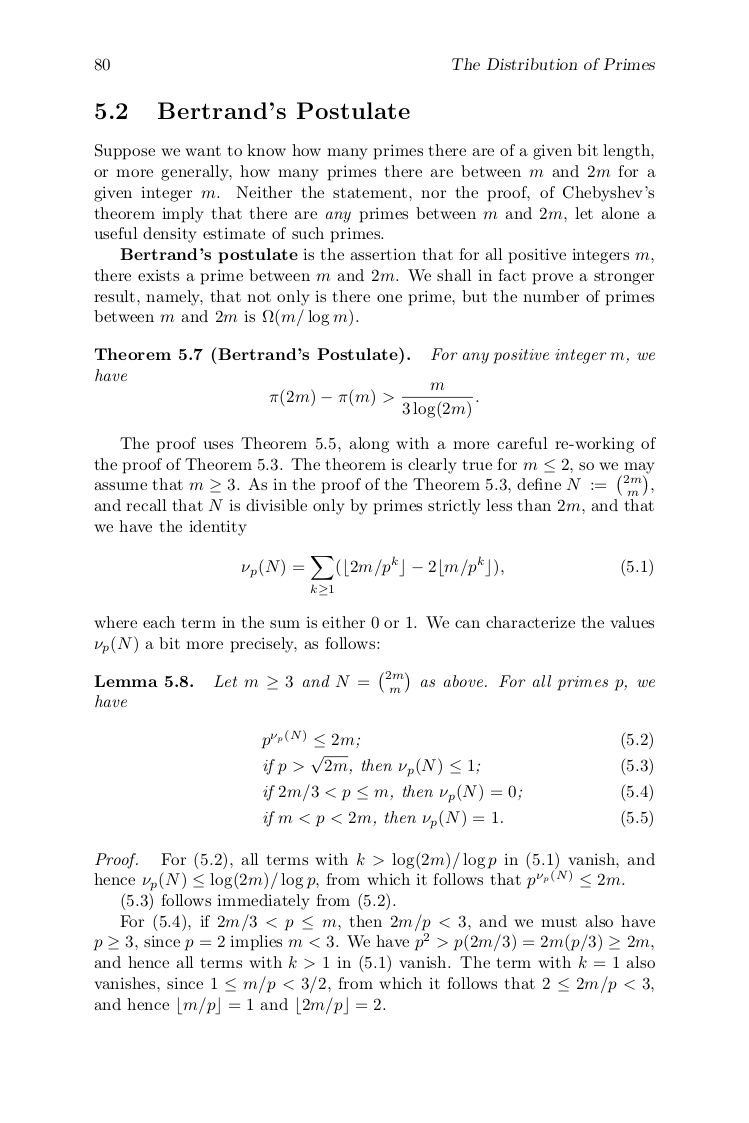formula: (242, 556, 652, 595), (263, 755, 652, 777), (261, 729, 652, 750), (263, 783, 652, 803), (263, 809, 652, 829), (269, 382, 478, 418)
